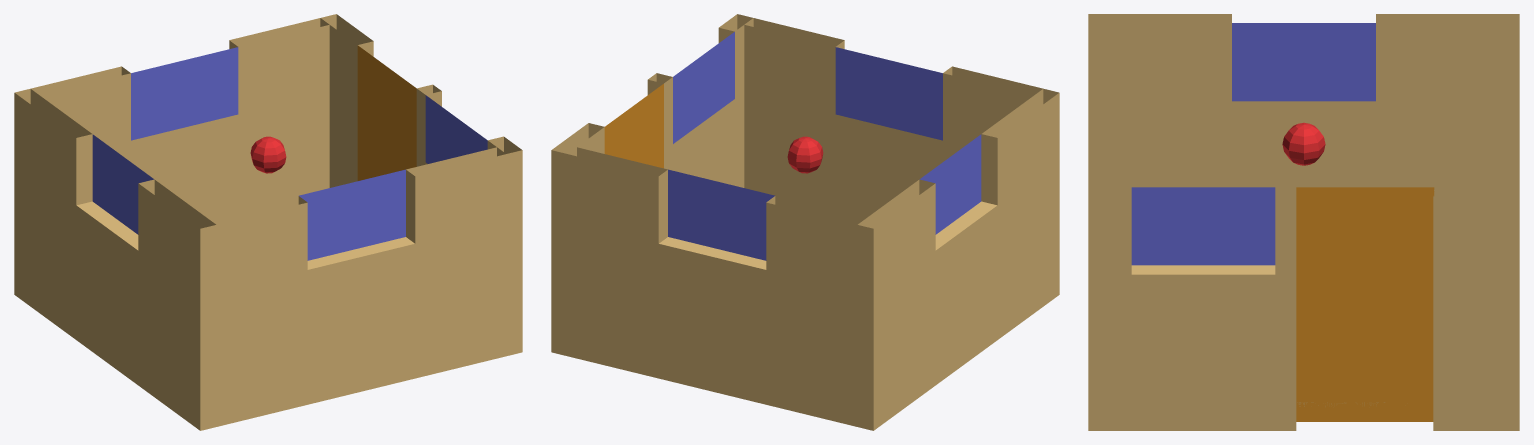
File: sample.glb
3 views of the same model, side by side, from view 1: azimuth 30°, elevation 25°; view 2: azimuth 150°, elevation 25°; view 3: azimuth 270°, elevation 25° (orthographic). The views are drawn at different scales.
Parts seen in each view (by area): view 1: wall.014, wall.017, wall.015, wall.016, Plane.011, Plane.010, Plane.013, Plane.012, Plane.014, 360Pic; view 2: wall.015, wall.017, wall.014, wall.016, Plane.010, Plane.011, Plane.014, Plane.013, Plane.012, 360Pic; view 3: wall.016, wall.017, Plane.013, Plane.014, Plane.012, wall.014, wall.015, 360Pic.
Part boxes in pixels (x1=…): wall.014: x1=207, y1=147, x2=506, y2=426; wall.017: x1=14, y1=88, x2=216, y2=430; wall.015: x1=30, y1=18, x2=329, y2=217; wall.016: x1=320, y1=14, x2=522, y2=356; Plane.011: x1=131, y1=47, x2=238, y2=140; Plane.010: x1=299, y1=169, x2=405, y2=260; Plane.013: x1=357, y1=45, x2=416, y2=180; Plane.012: x1=92, y1=134, x2=154, y2=234; Plane.014: x1=425, y1=95, x2=487, y2=163; 360Pic: x1=250, y1=136, x2=286, y2=173; wall.015: x1=567, y1=147, x2=866, y2=426; wall.017: x1=857, y1=88, x2=1059, y2=430; wall.014: x1=744, y1=18, x2=1043, y2=217; wall.016: x1=551, y1=14, x2=753, y2=356; Plane.010: x1=835, y1=47, x2=942, y2=140; Plane.011: x1=668, y1=169, x2=774, y2=260; Plane.014: x1=673, y1=32, x2=734, y2=143; Plane.013: x1=604, y1=84, x2=663, y2=168; Plane.012: x1=919, y1=134, x2=981, y2=234; 360Pic: x1=787, y1=136, x2=823, y2=173; wall.016: x1=1088, y1=187, x2=1519, y2=430; wall.017: x1=1088, y1=14, x2=1519, y2=187; Plane.013: x1=1296, y1=187, x2=1434, y2=421; Plane.014: x1=1131, y1=187, x2=1275, y2=265; Plane.012: x1=1232, y1=23, x2=1375, y2=101; wall.014: x1=1088, y1=74, x2=1109, y2=196; wall.015: x1=1498, y1=74, x2=1519, y2=196; 360Pic: x1=1282, y1=122, x2=1325, y2=165.
Size of the model in its own units: 2 by 1.2 by 2.
